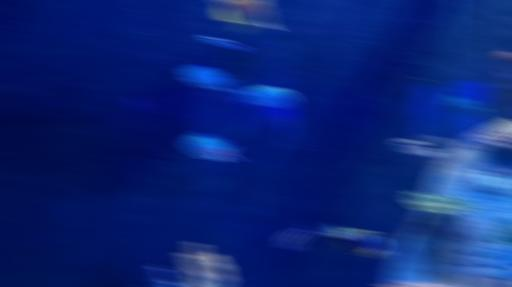Fish: (326, 224, 387, 257), (217, 0, 277, 32), (181, 66, 234, 92), (185, 134, 238, 160), (394, 136, 453, 159), (236, 85, 293, 107), (280, 224, 313, 249), (203, 35, 246, 51), (498, 54, 511, 60), (502, 73, 511, 76)
